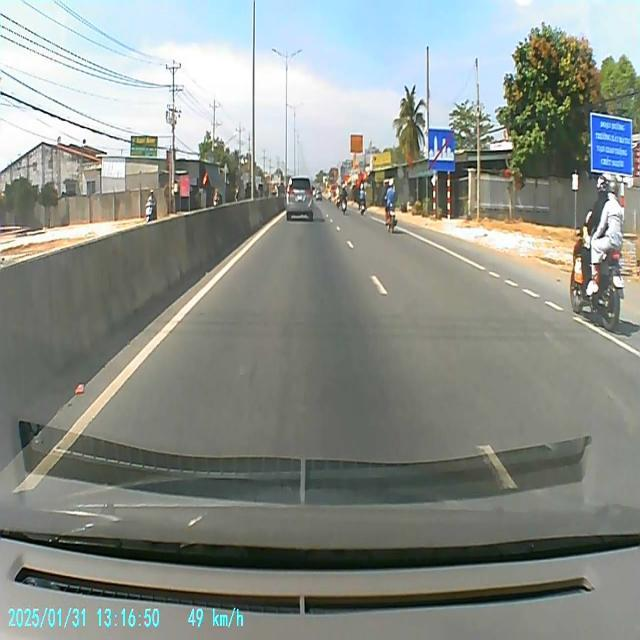421-ket-thuc-khu-dong-dan-cu: (428, 128, 456, 172)
